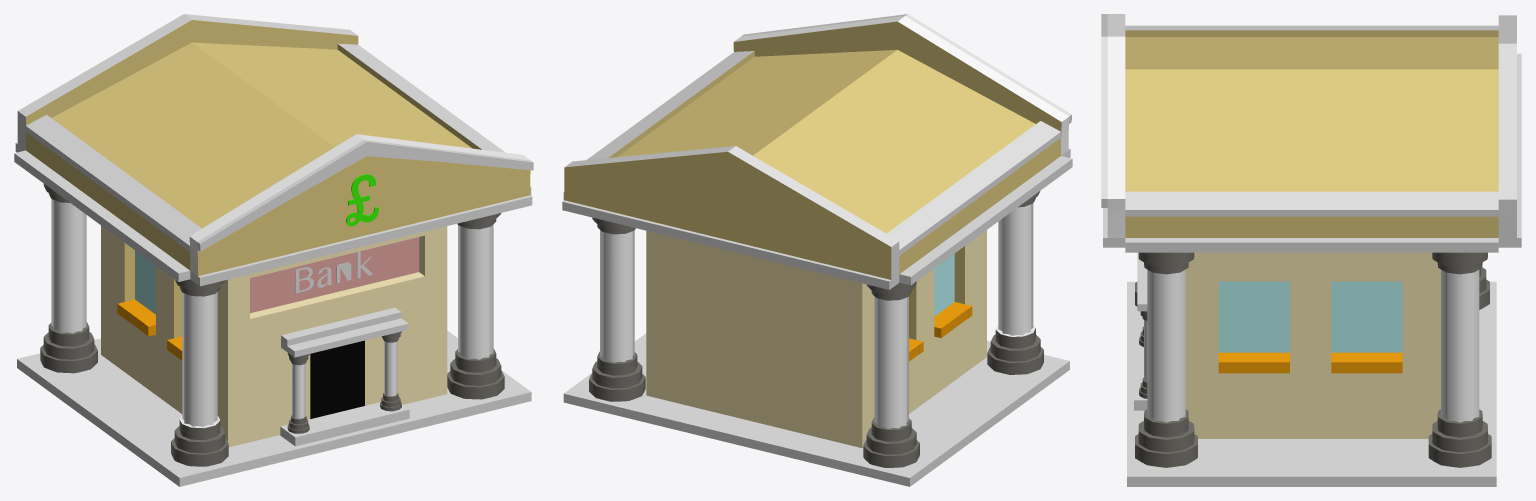
The model's file is bigBang.fbx.
3 views of the same model, side by side, from view 1: azimuth 30°, elevation 25°; view 2: azimuth 150°, elevation 25°; view 3: azimuth 270°, elevation 25° (orthographic). The views are drawn at different scales.
Parts seen in each view (by area): view 1: BigBank1; view 2: BigBank1; view 3: BigBank1.
Part boxes in pixels (bbox=[...]): BigBank1: bbox=[14, 14, 533, 486]; BigBank1: bbox=[562, 14, 1072, 486]; BigBank1: bbox=[1101, 14, 1521, 486].
Bounding box in the file's own units: 3.92 × 3.29 × 3.55.
